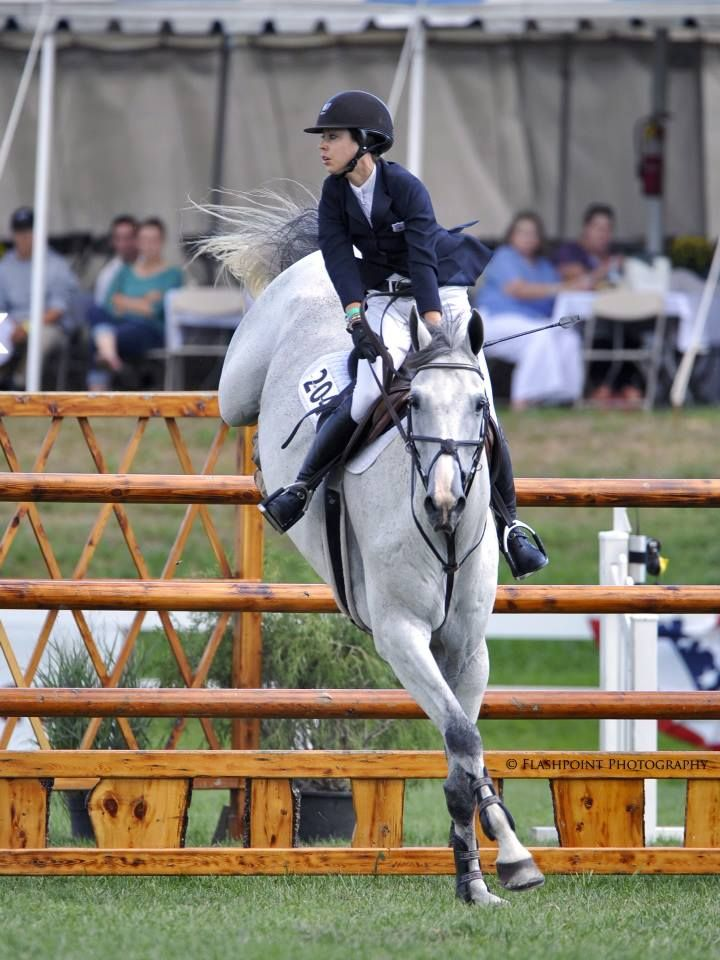human: (273, 85, 546, 599)
